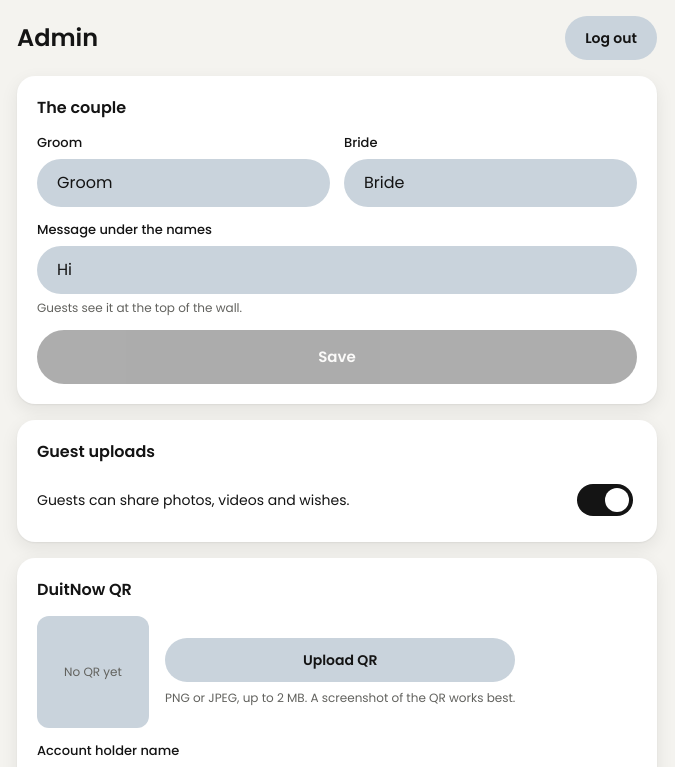
AdminDashboard › shows a save error
Step 1. Replace the text in the field labelled "Bride" with "Aina" → [490, 183], box left=344, top=159, right=637, bottom=207
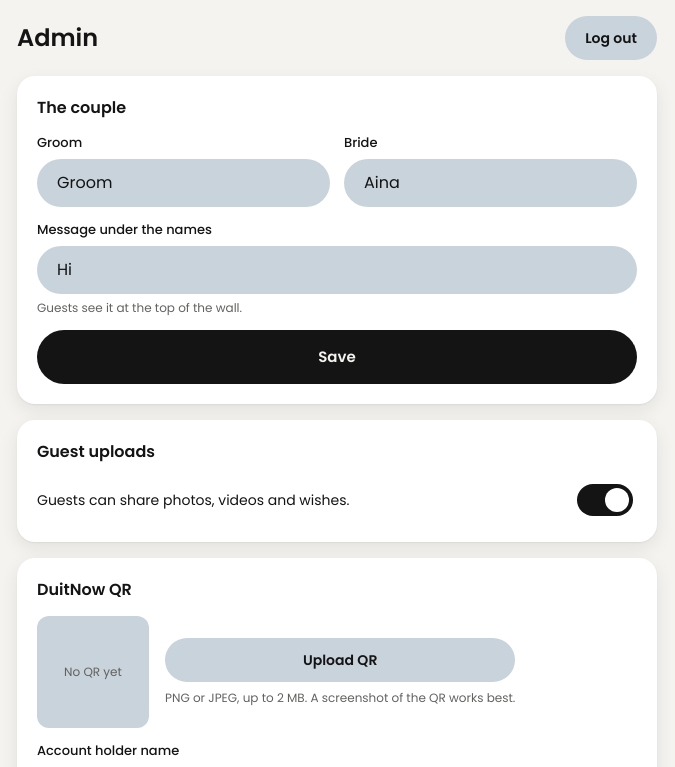
Step 2. Click the button "Save" → [337, 357], box left=37, top=330, right=637, bottom=384
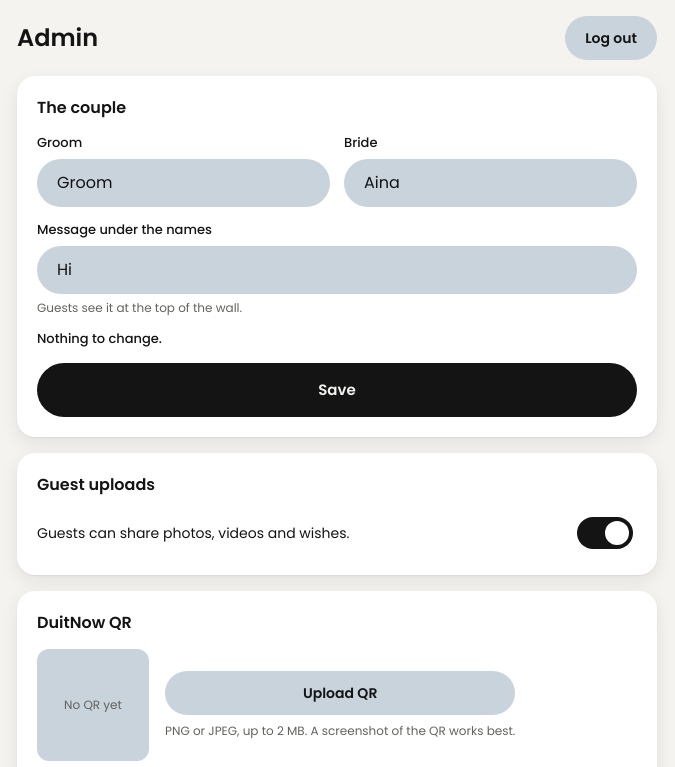
Expected: the message reads "Nothing to change.", left=37, top=329, right=162, bottom=348
